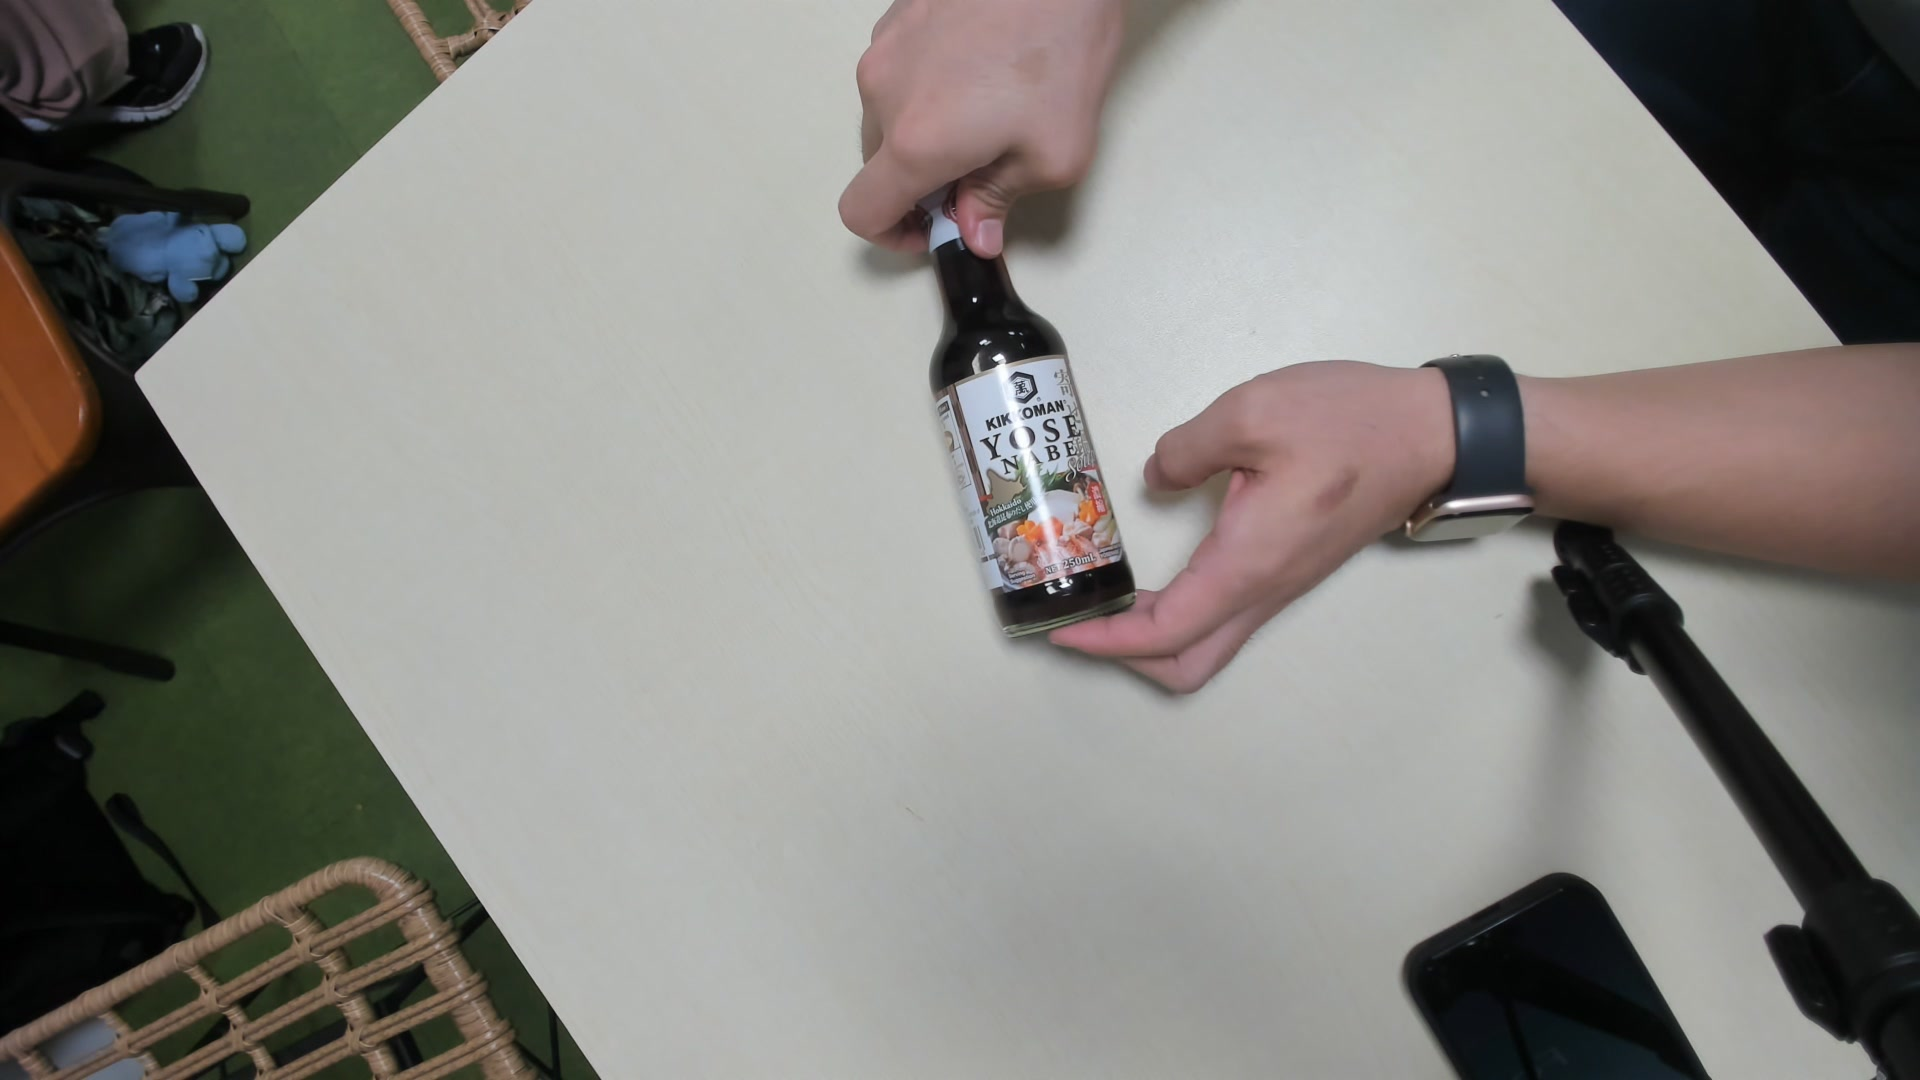OtherSauceDressing_200-299g_NonHalal_NonHealthy: (916, 185, 1135, 641)
